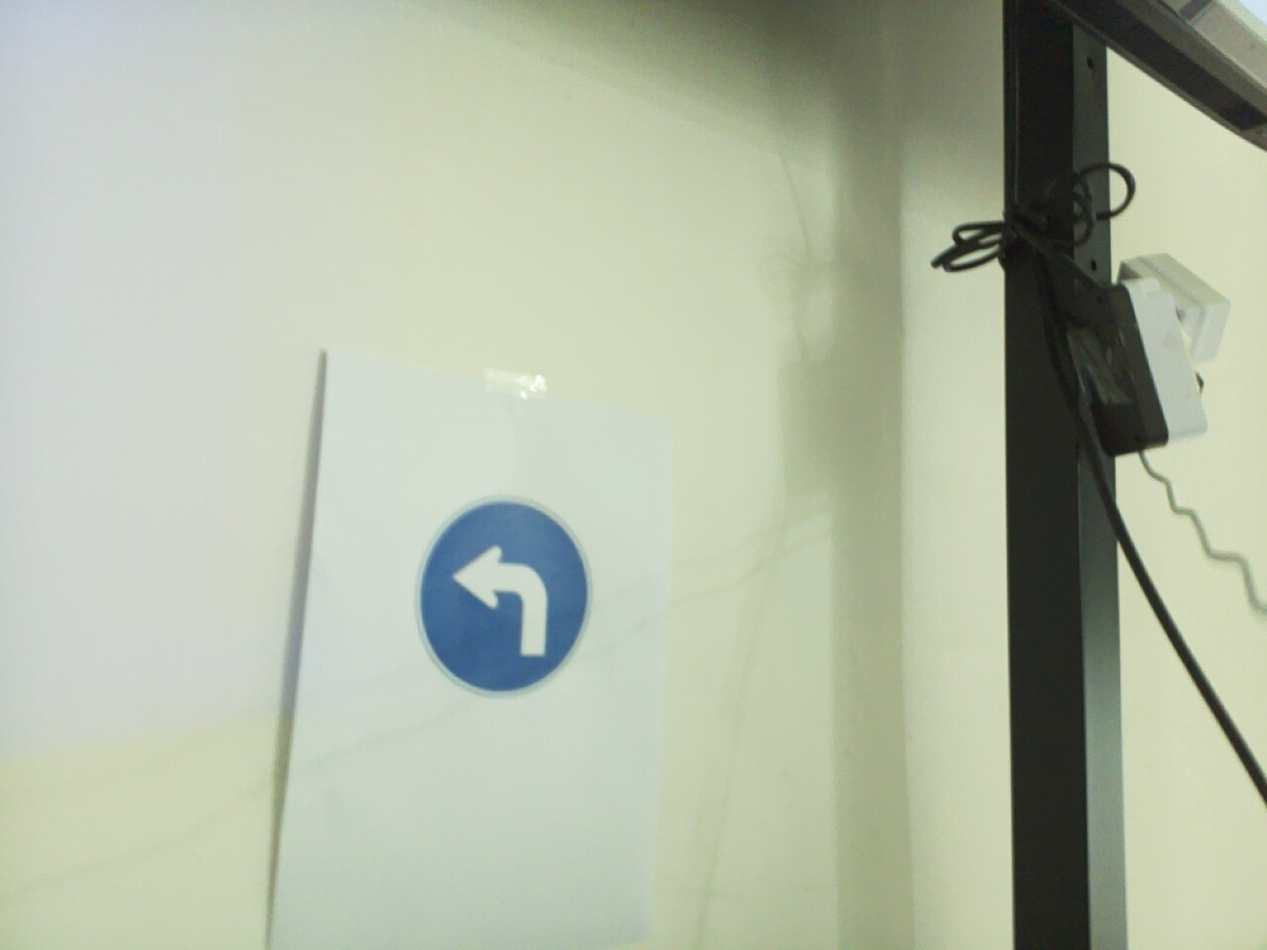left_turn: (1100, 28, 1267, 826)
